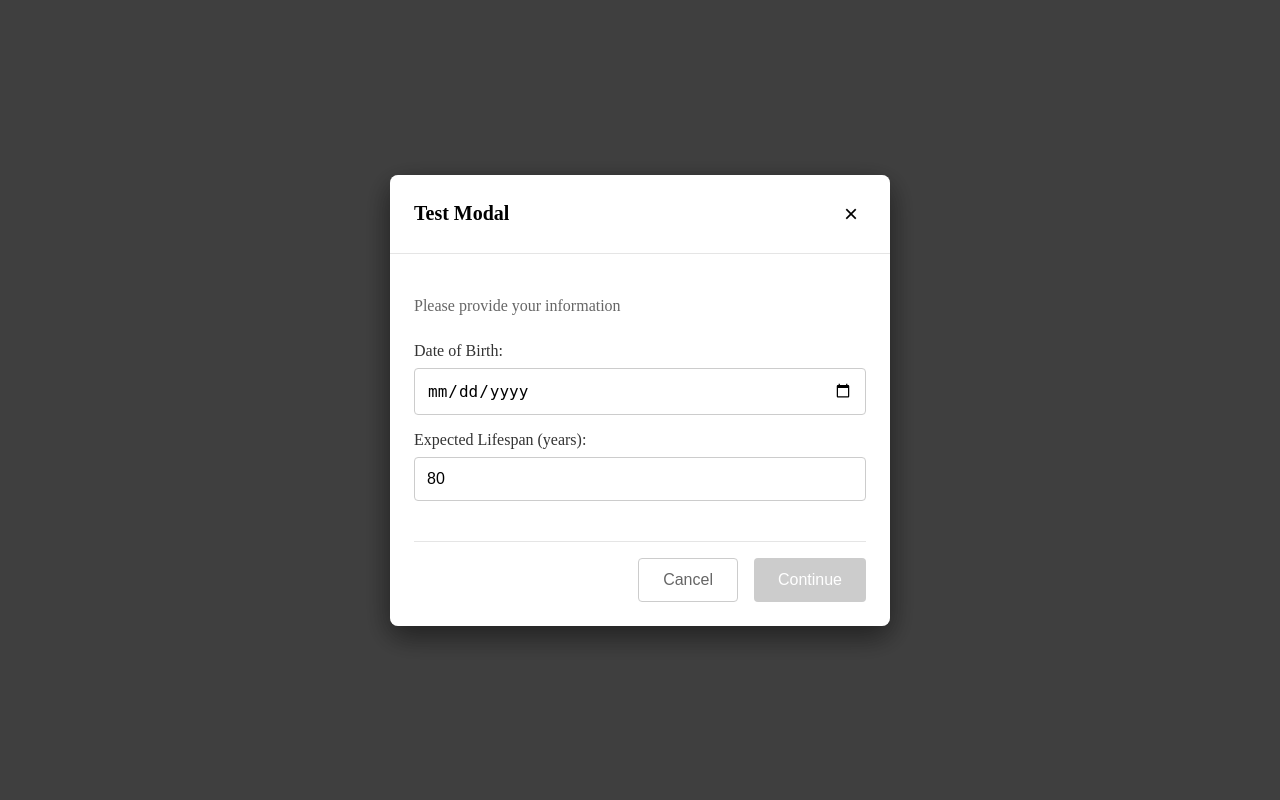
Test case: UserConfirmationModal › Form Validation › should require both date of birth and lifespan
Check: the submit button is disabled, box 754,558 -> 866,602
# Add only date
Type "1990-01-01" into the date field with id "birth-date" at (640, 391), box 414,368 -> 866,414
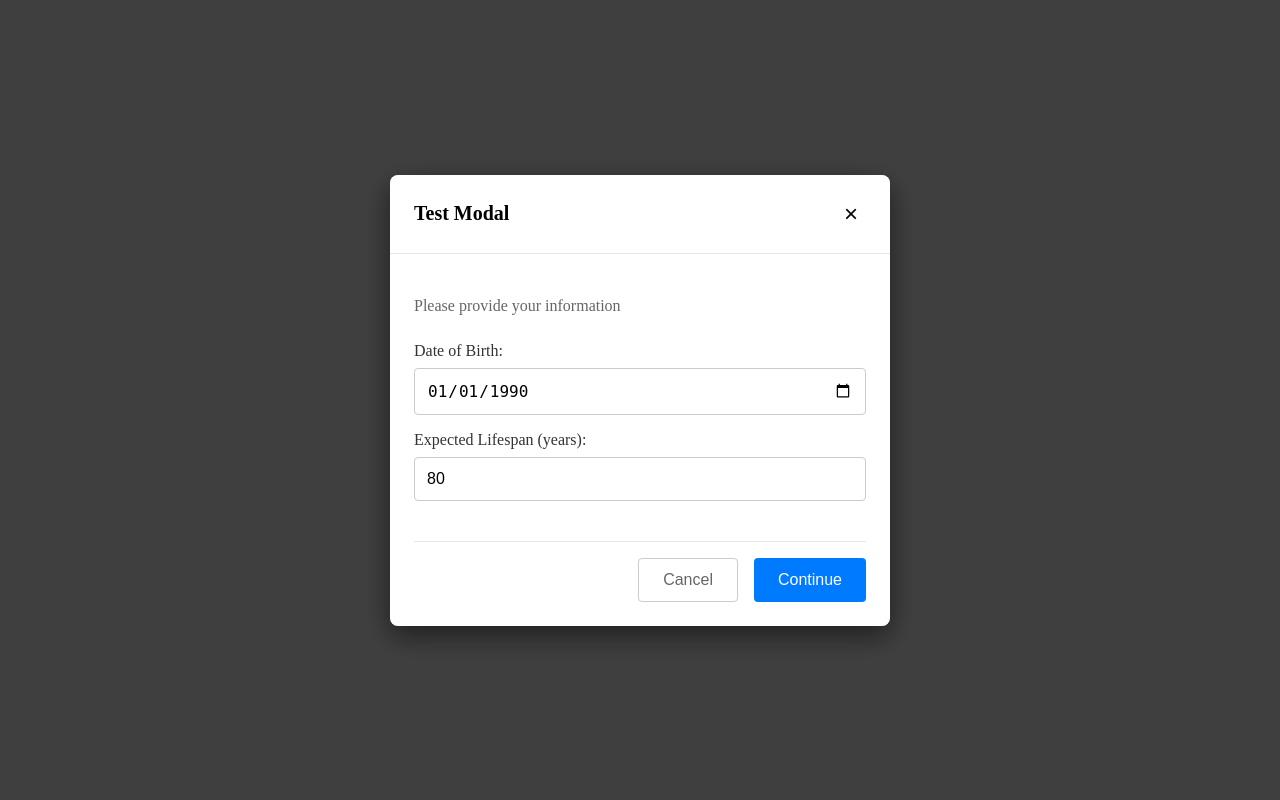
# Should still be disabled if lifespan is not valid (default 80 is valid, so let's clear it)
Clear the number field with id "lifespan" at (640, 478), box 414,456 -> 866,500
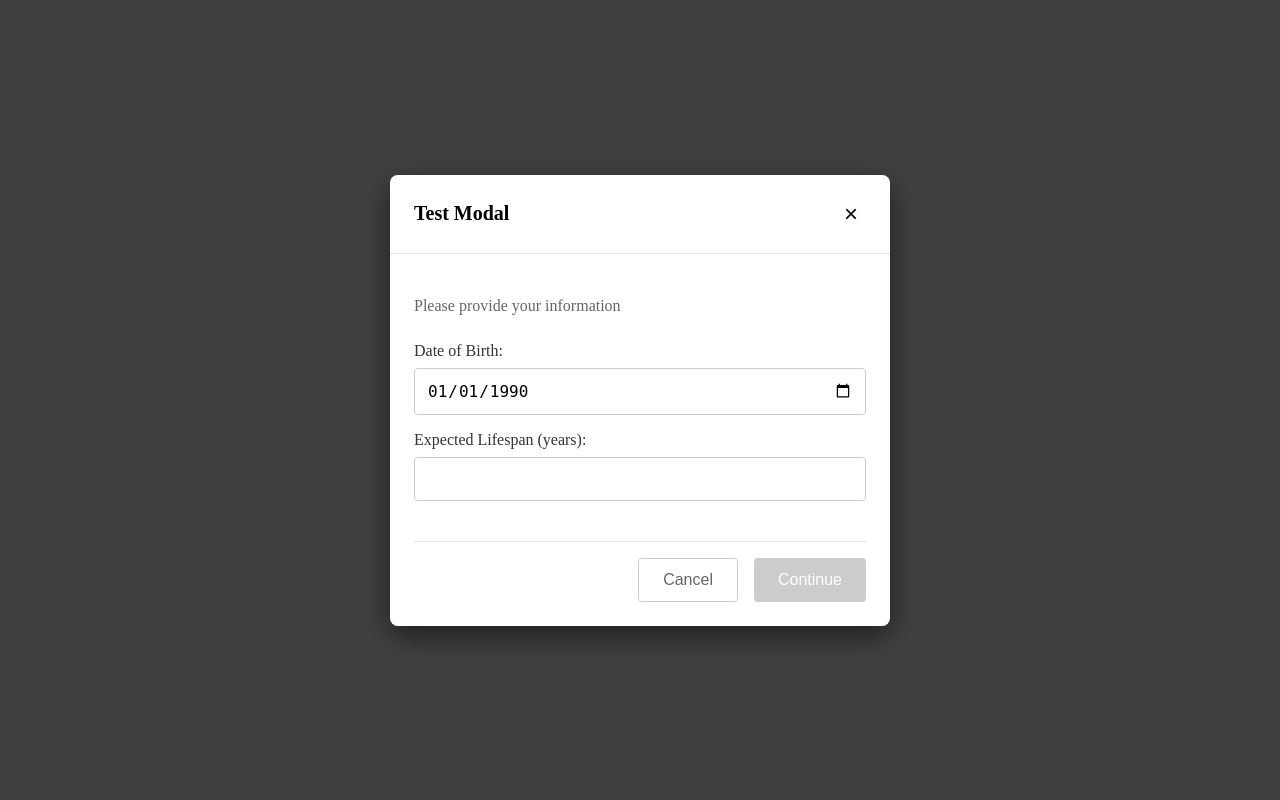
Check: the submit button is disabled, box 754,558 -> 866,602
# Add valid lifespan
Type "80" into the number field with id "lifespan" at (640, 478), box 414,456 -> 866,500
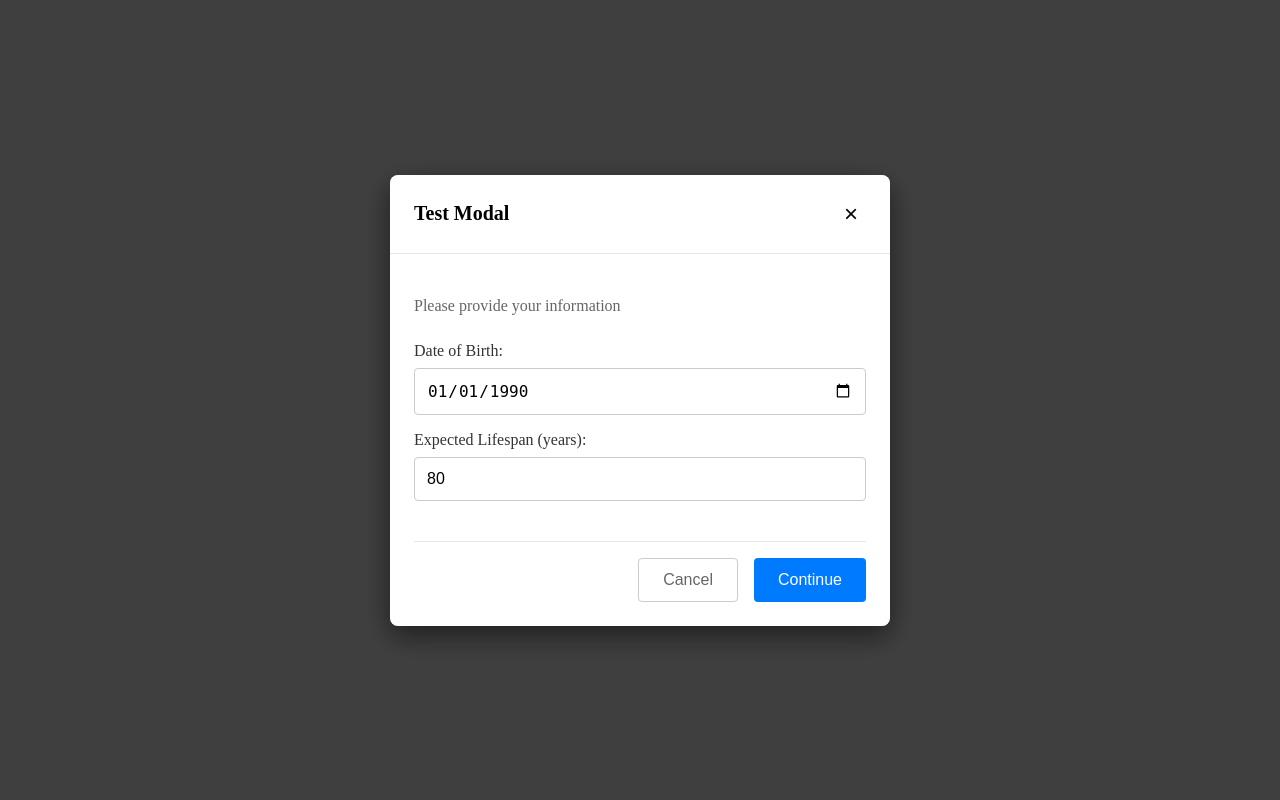
Check: the submit button is enabled, box 754,558 -> 866,602
